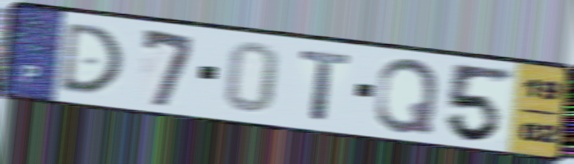0: (220, 40, 281, 117)
5: (441, 60, 518, 143)
7: (142, 25, 195, 109)
D: (57, 20, 127, 96)
Q: (371, 56, 441, 136)
T: (297, 48, 356, 124)
